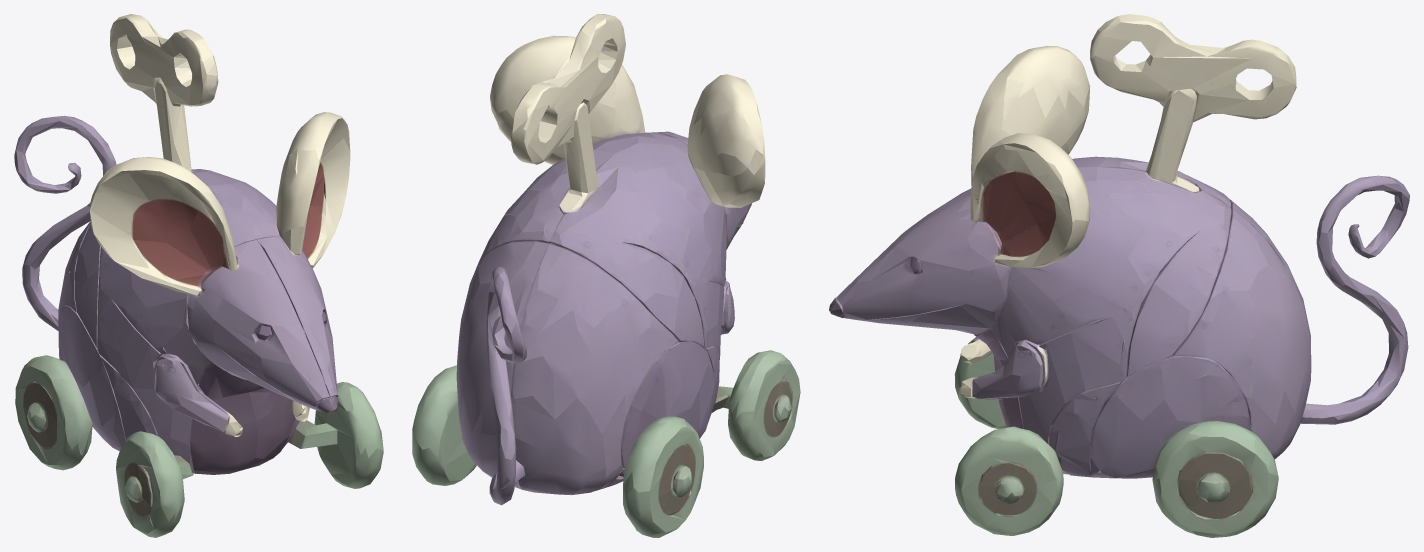
Rendered from sb_wind-up-rat.glb.
The picture shows the model from 3 angles, left to right: view 1: azimuth 30°, elevation 25°; view 2: azimuth 150°, elevation 25°; view 3: azimuth 270°, elevation 25°; orthographic projection. The views are drawn at different scales.
Size of the model in its own units: 1.06 by 1.68 by 1.9.
1 material, 1 textured.
